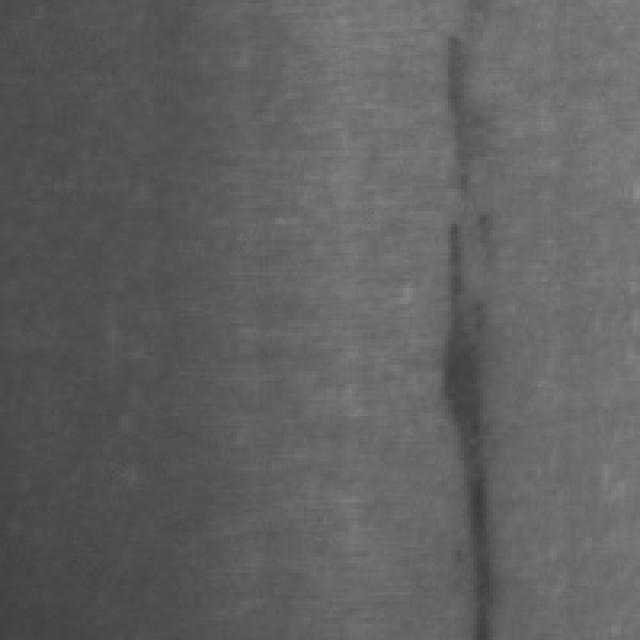inclusion: (426, 208, 515, 637), (426, 9, 496, 220)
